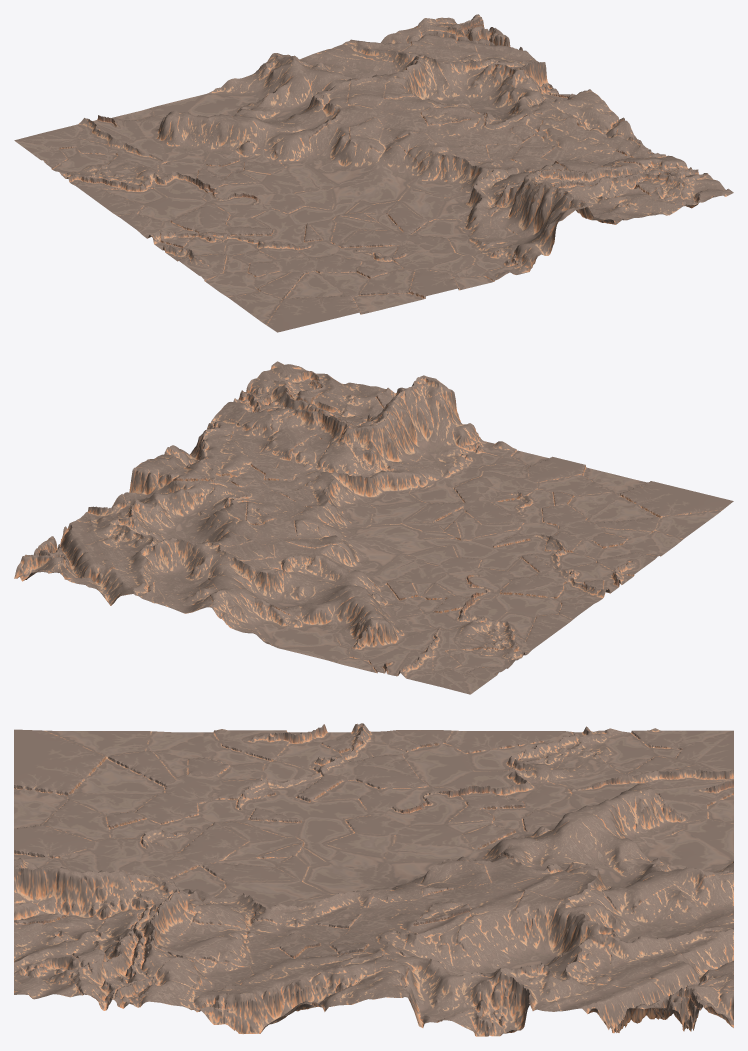
File: badlands_with_erosion_and_desert_sand_landscape.glb
The picture shows the model from 3 angles, top to bottom: view 1: azimuth 30°, elevation 25°; view 2: azimuth 150°, elevation 25°; view 3: azimuth 270°, elevation 25°; orthographic projection. The views are drawn at different scales.
Visible parts, largest first — view 1: Object_2, Object_3; view 2: Object_2, Object_3; view 3: Object_2, Object_3.
Boxes of the visible parts, x1,y1,x2,y2 form: Object_2: [43, 14, 733, 332]; Object_3: [14, 27, 722, 325]; Object_2: [14, 361, 733, 687]; Object_3: [14, 364, 704, 694]; Object_2: [14, 723, 733, 1036]; Object_3: [14, 723, 733, 1027].
Size of the model in its own units: 0.9995 by 0.1116 by 0.9995.
1 material, 1 textured.
